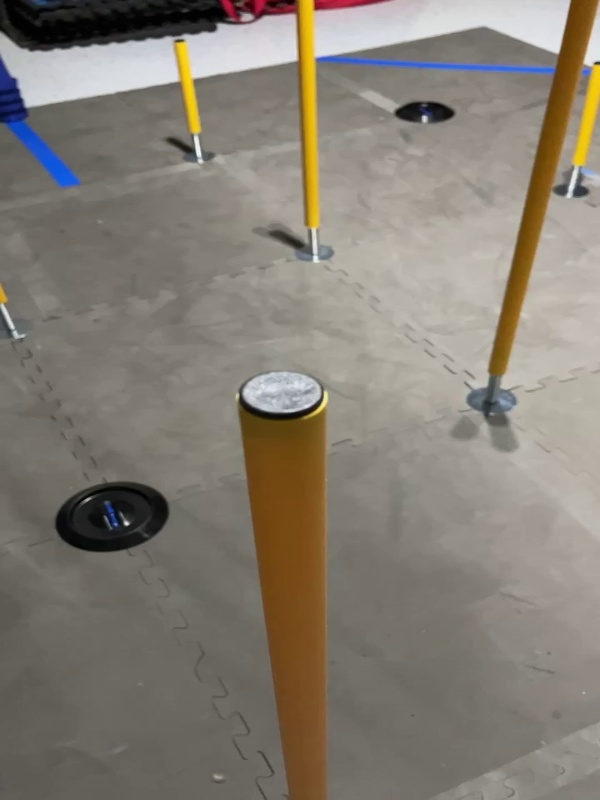top: (231, 366, 330, 424)
